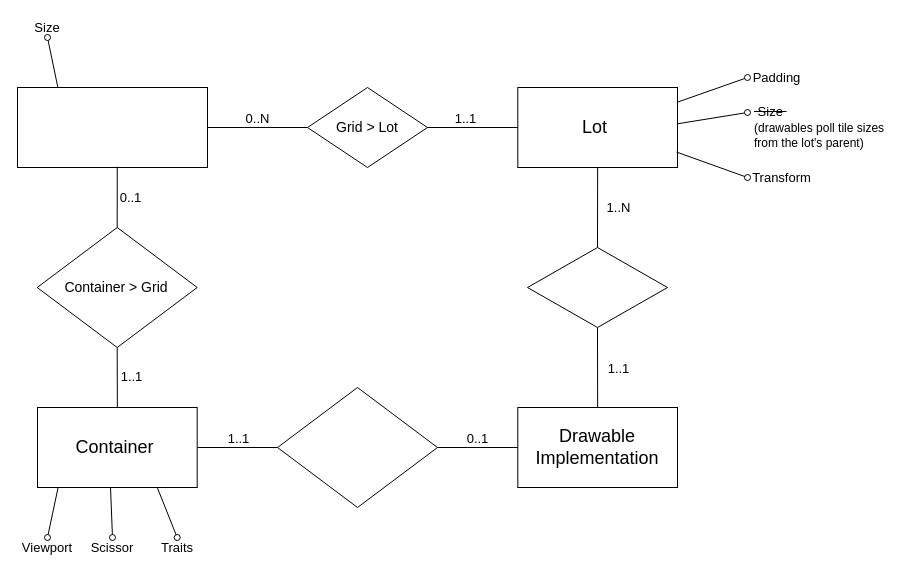
This 915x574 diagram has some shape labels left out. Here are the shapes that lost their labels. From the top down, the box of each, then its label:
(16, 86, 208, 168): Grid
(526, 246, 668, 328): Grid > Drawable
(276, 386, 438, 508): Tile > Container
